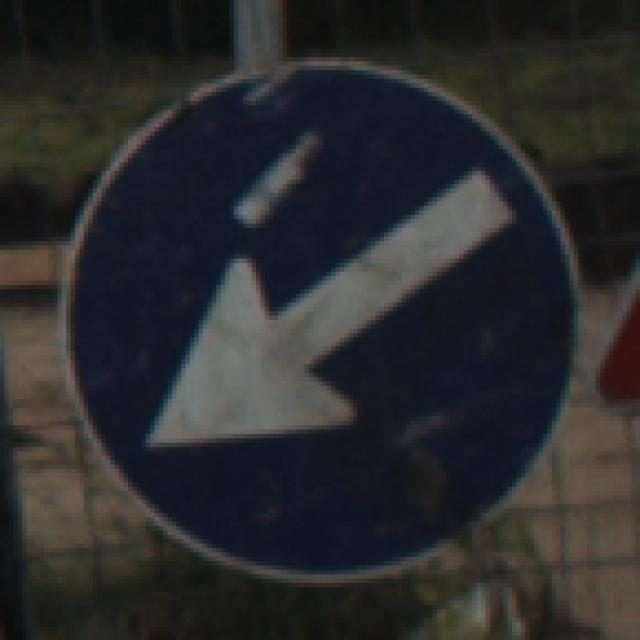compulsary keep left: (48, 66, 585, 581)
